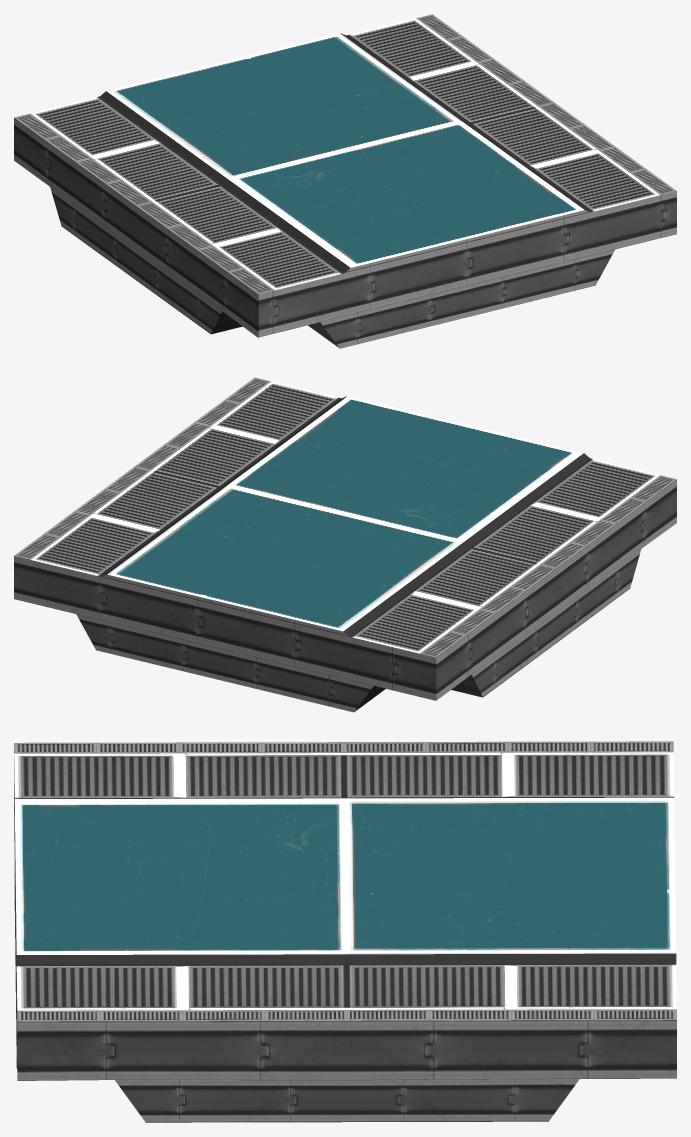
File: ARC1110015.fbx
3 views of the same model, one above another, from view 1: azimuth 30°, elevation 25°; view 2: azimuth 150°, elevation 25°; view 3: azimuth 270°, elevation 25° (orthographic). The views are drawn at different scales.
Parts seen in each view (by area): view 1: smARC1110015; view 2: smARC1110015; view 3: smARC1110015.
Part boxes in pixels (x1=…): smARC1110015: x1=14, y1=14, x2=676, y2=348; smARC1110015: x1=14, y1=377, x2=676, y2=712; smARC1110015: x1=14, y1=741, x2=676, y2=1122.
Size of the model in its own units: 377 by 66.69 by 377.
1 material, 1 textured.
